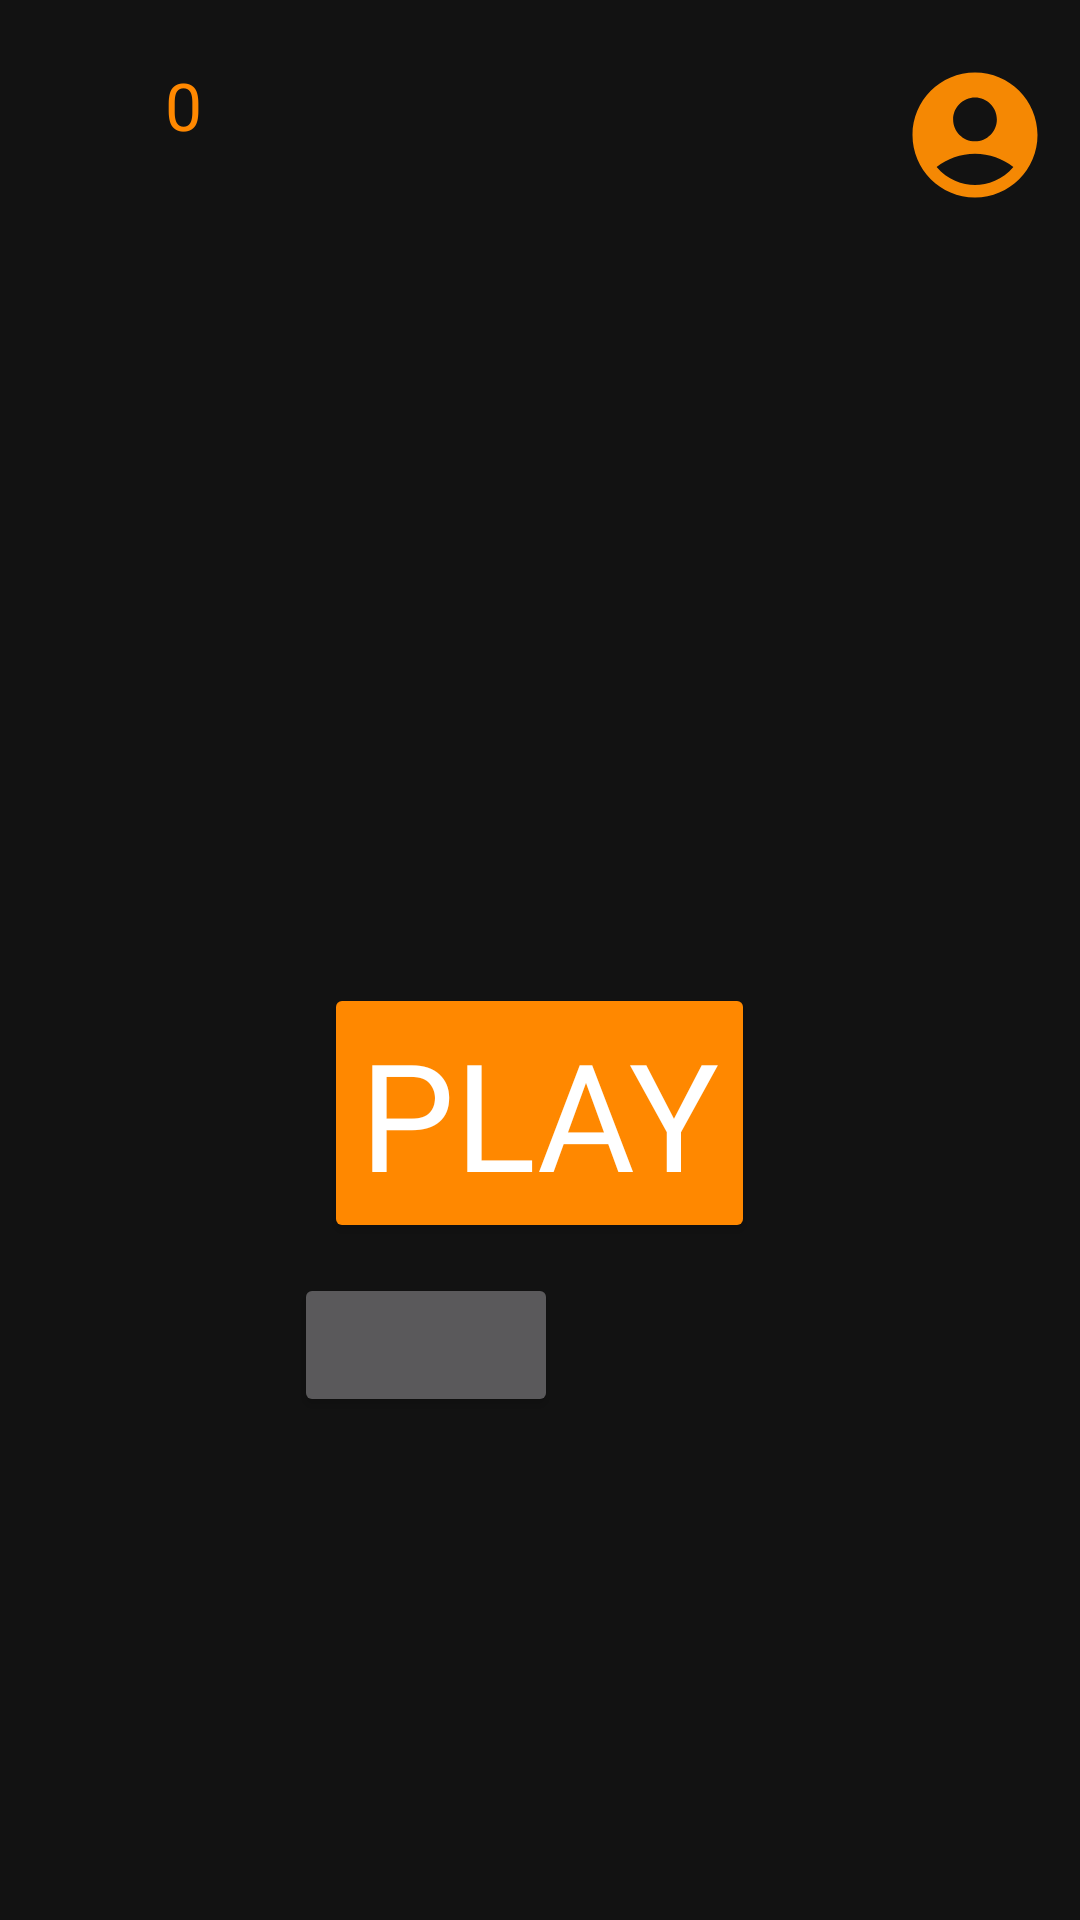

Point at icon controls on the screen. Image size 1080w x 1920h, points as (x=x, y=y).
account circle: (x=975, y=135)
